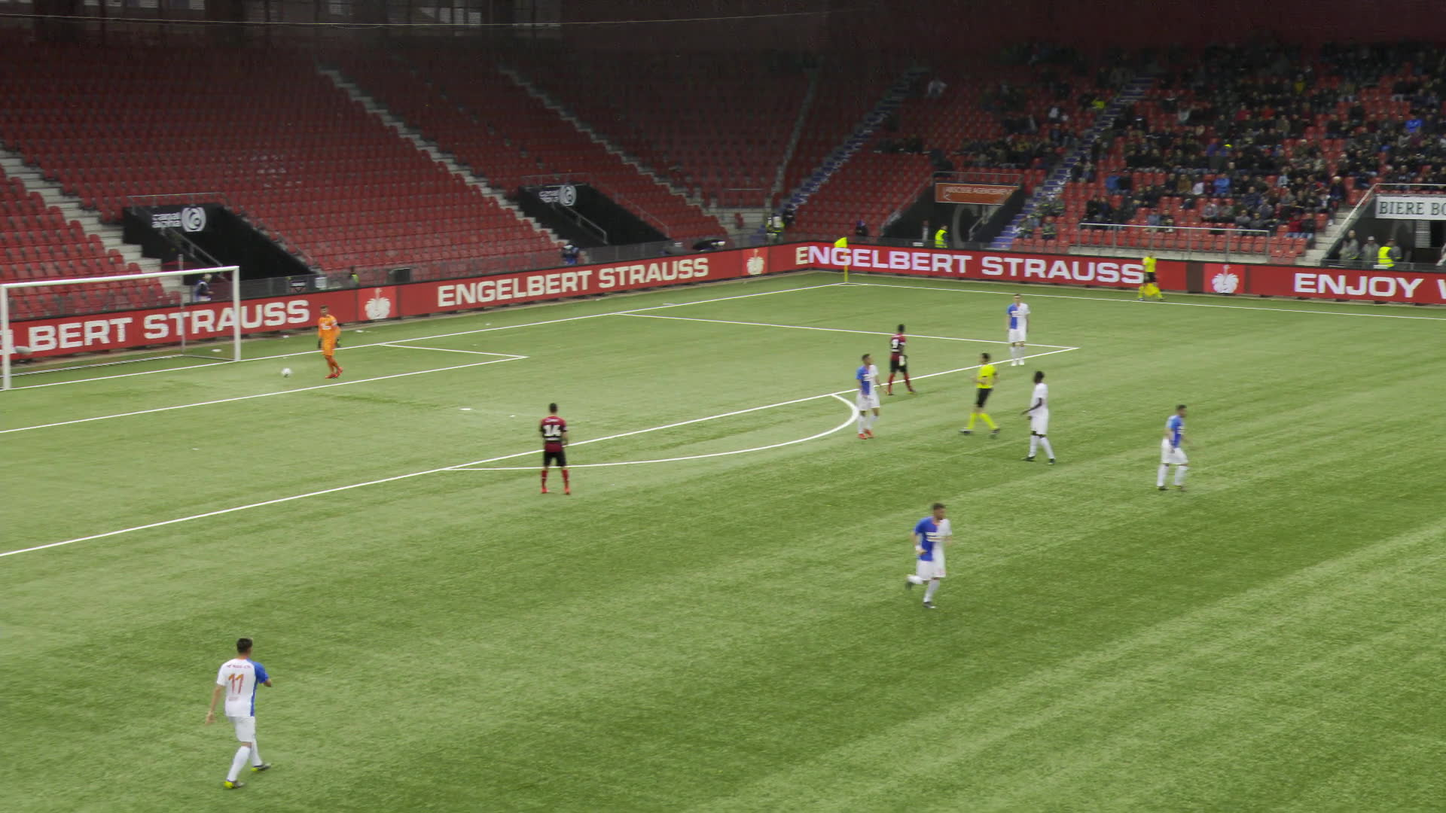ball: (279, 369, 288, 378)
player: (200, 632, 273, 790), (893, 498, 947, 612), (1011, 369, 1051, 465), (531, 400, 569, 497), (850, 352, 889, 440), (1152, 402, 1185, 492), (310, 306, 343, 379), (880, 323, 912, 397), (998, 291, 1026, 367)
referee: (953, 352, 993, 440), (1131, 248, 1158, 302)
